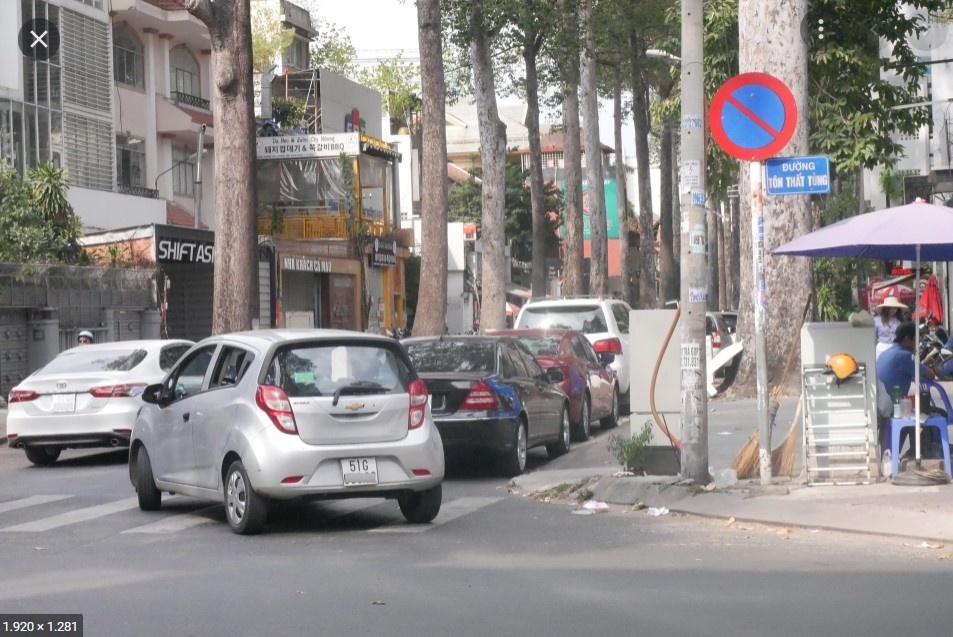Cam do xe: (710, 71, 798, 161)
